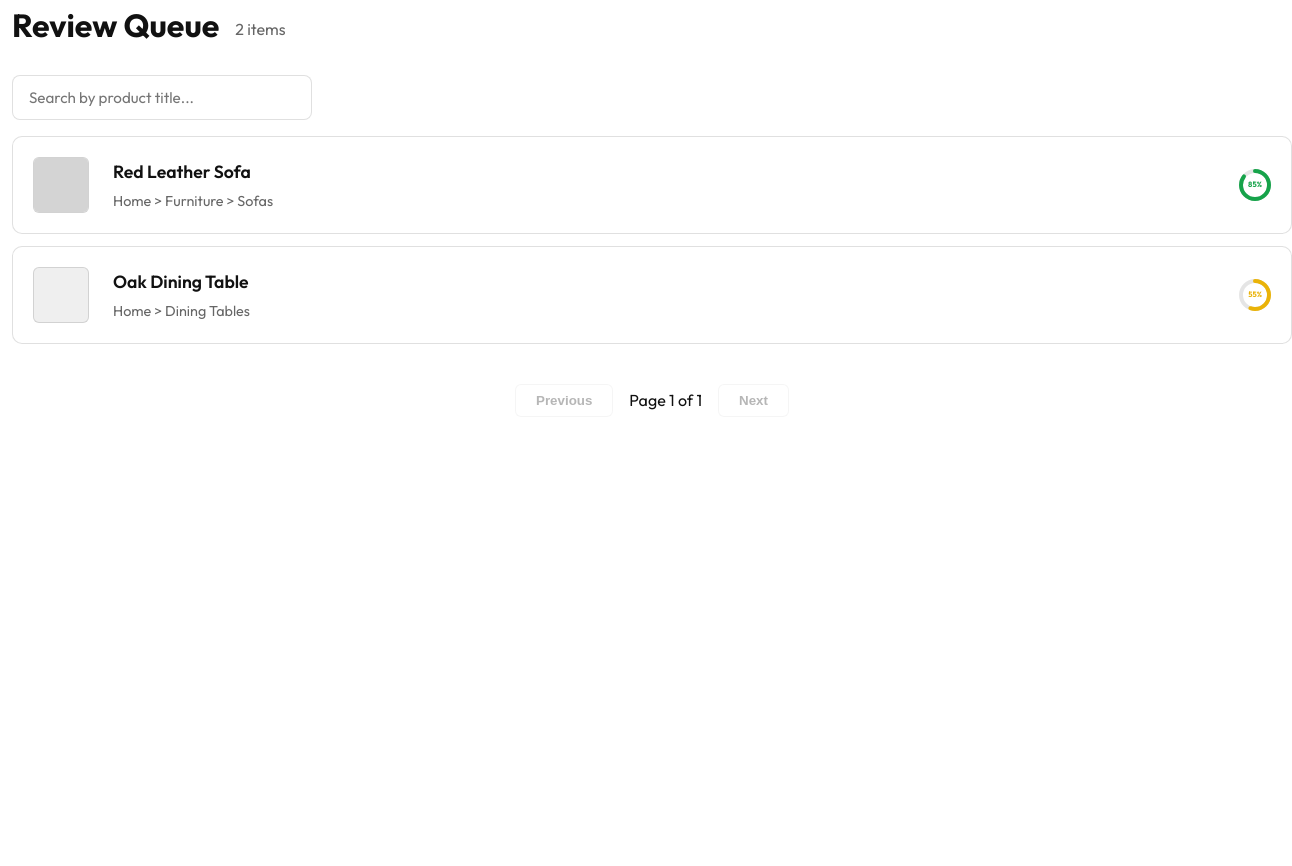
Test: ReviewPage expand and resolve › approving removes the item from the queue
Click the text "Red Leather Sofa" at (182, 171), box [113, 160, 251, 183]
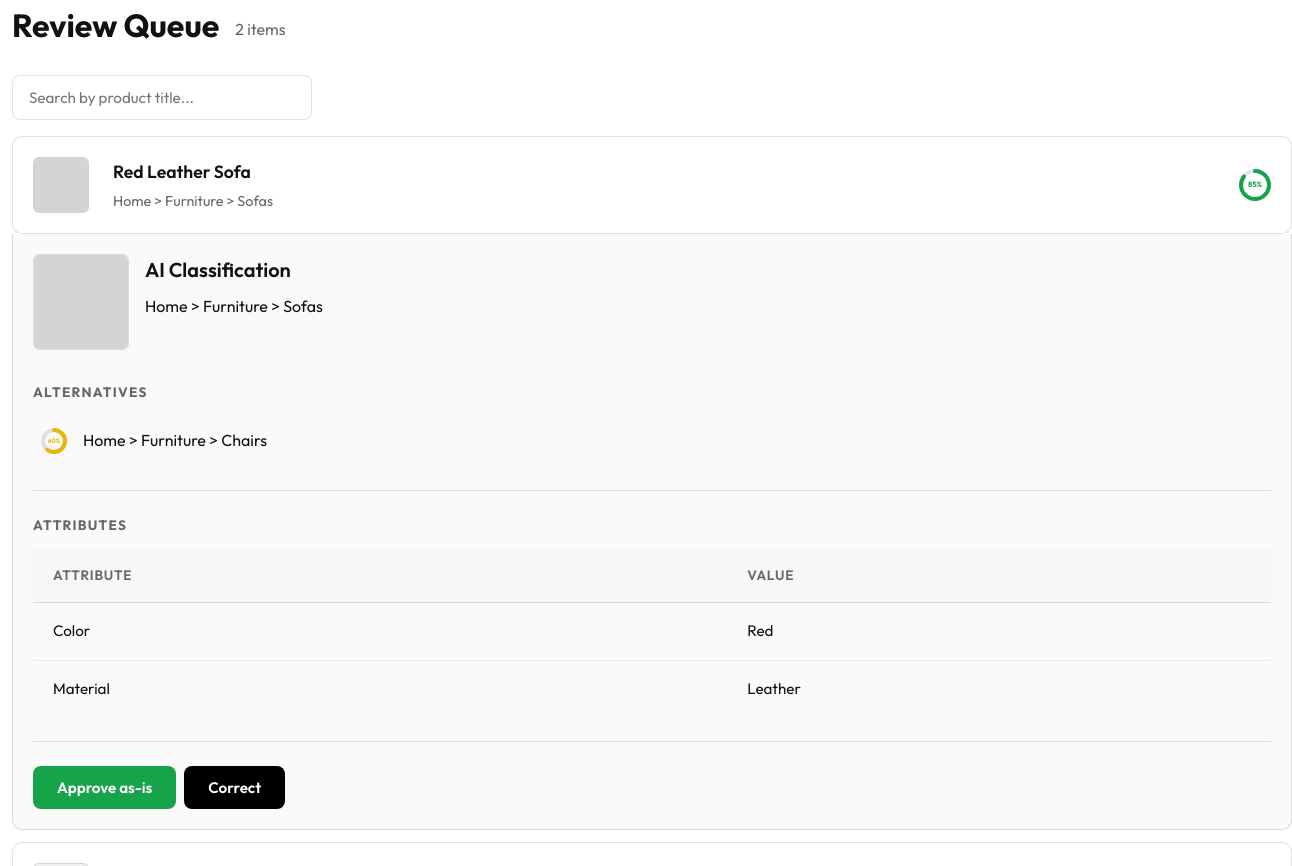
Click the button "Approve as-is" at (105, 788), box [33, 766, 176, 809]
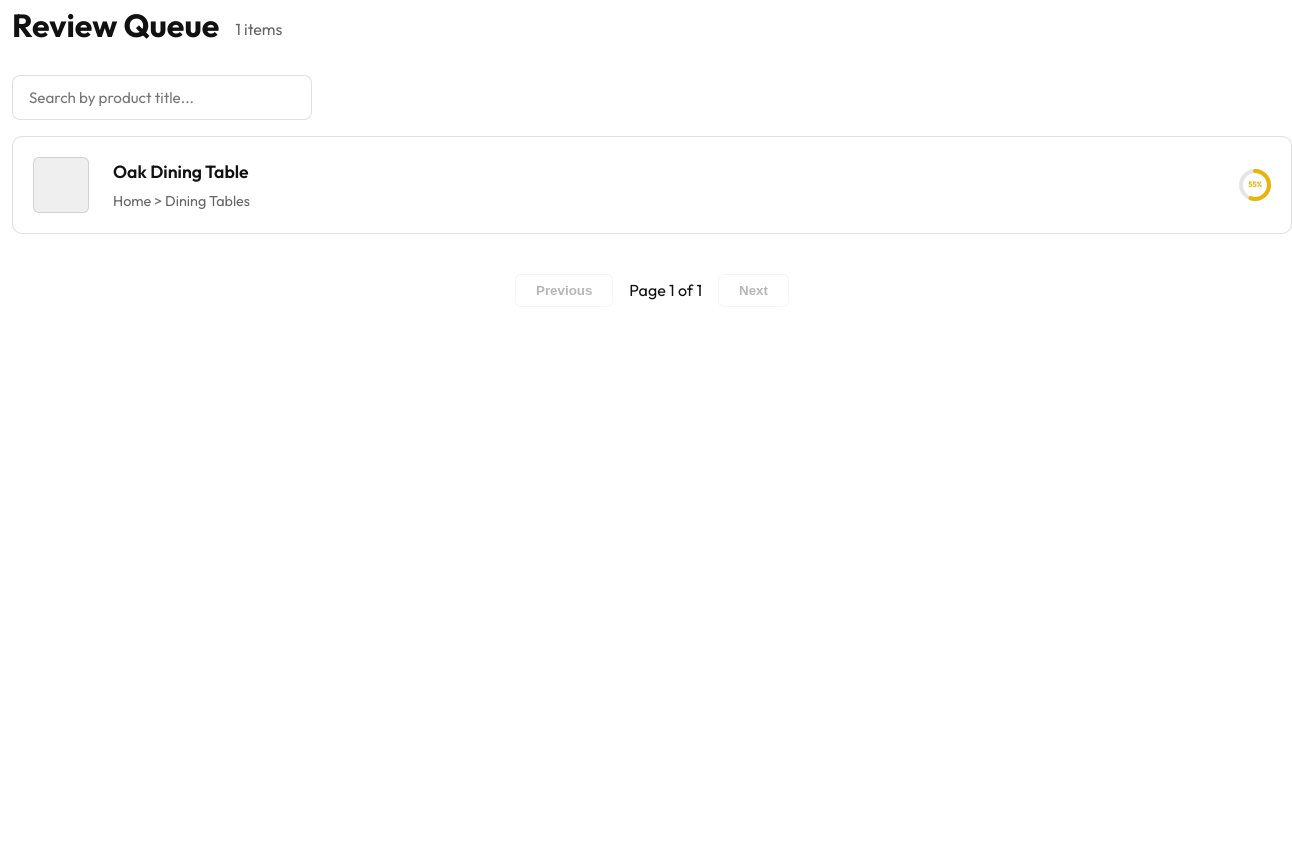
Expected: the text "Red Leather Sofa" is gone
Expected: the text "1 items" is shown, [235, 17, 282, 42]
